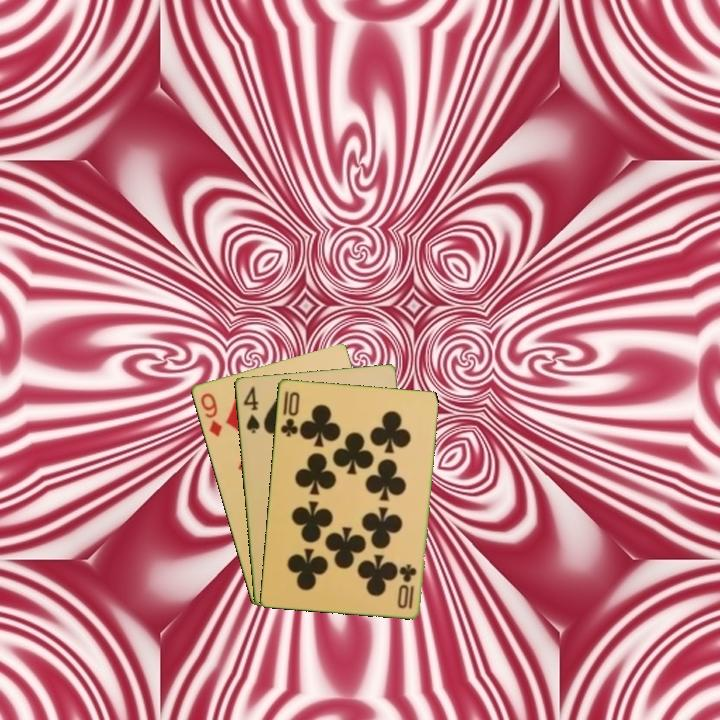10c: (277, 387, 302, 440), (395, 560, 419, 611)
4s: (240, 383, 262, 436)
9d: (197, 389, 225, 439)
